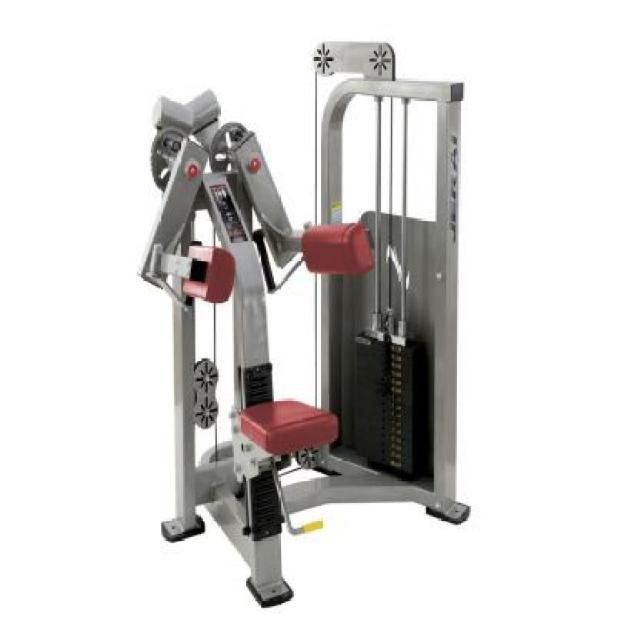lateral raises machine: (137, 36, 471, 610)
